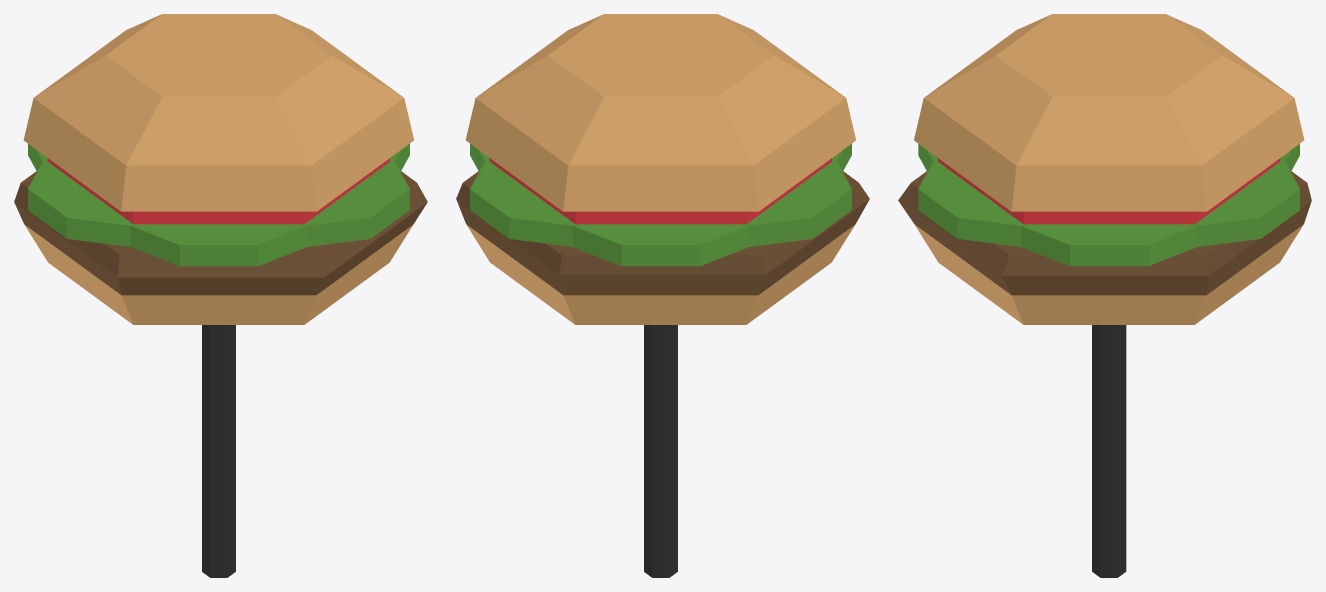
Rendered from burger-statue.glb.
3 views of the same model, side by side, from view 1: azimuth 30°, elevation 25°; view 2: azimuth 150°, elevation 25°; view 3: azimuth 270°, elevation 25° (orthographic).
Visible parts, largest first — view 1: burger-statue; view 2: burger-statue; view 3: burger-statue.
Part boxes in pixels (x1=…): burger-statue: x1=14, y1=14, x2=427, y2=577; burger-statue: x1=456, y1=14, x2=869, y2=577; burger-statue: x1=898, y1=14, x2=1311, y2=577.
Size of the model in its own units: 5.07 by 7.3 by 5.3.
1 material, 1 textured.
